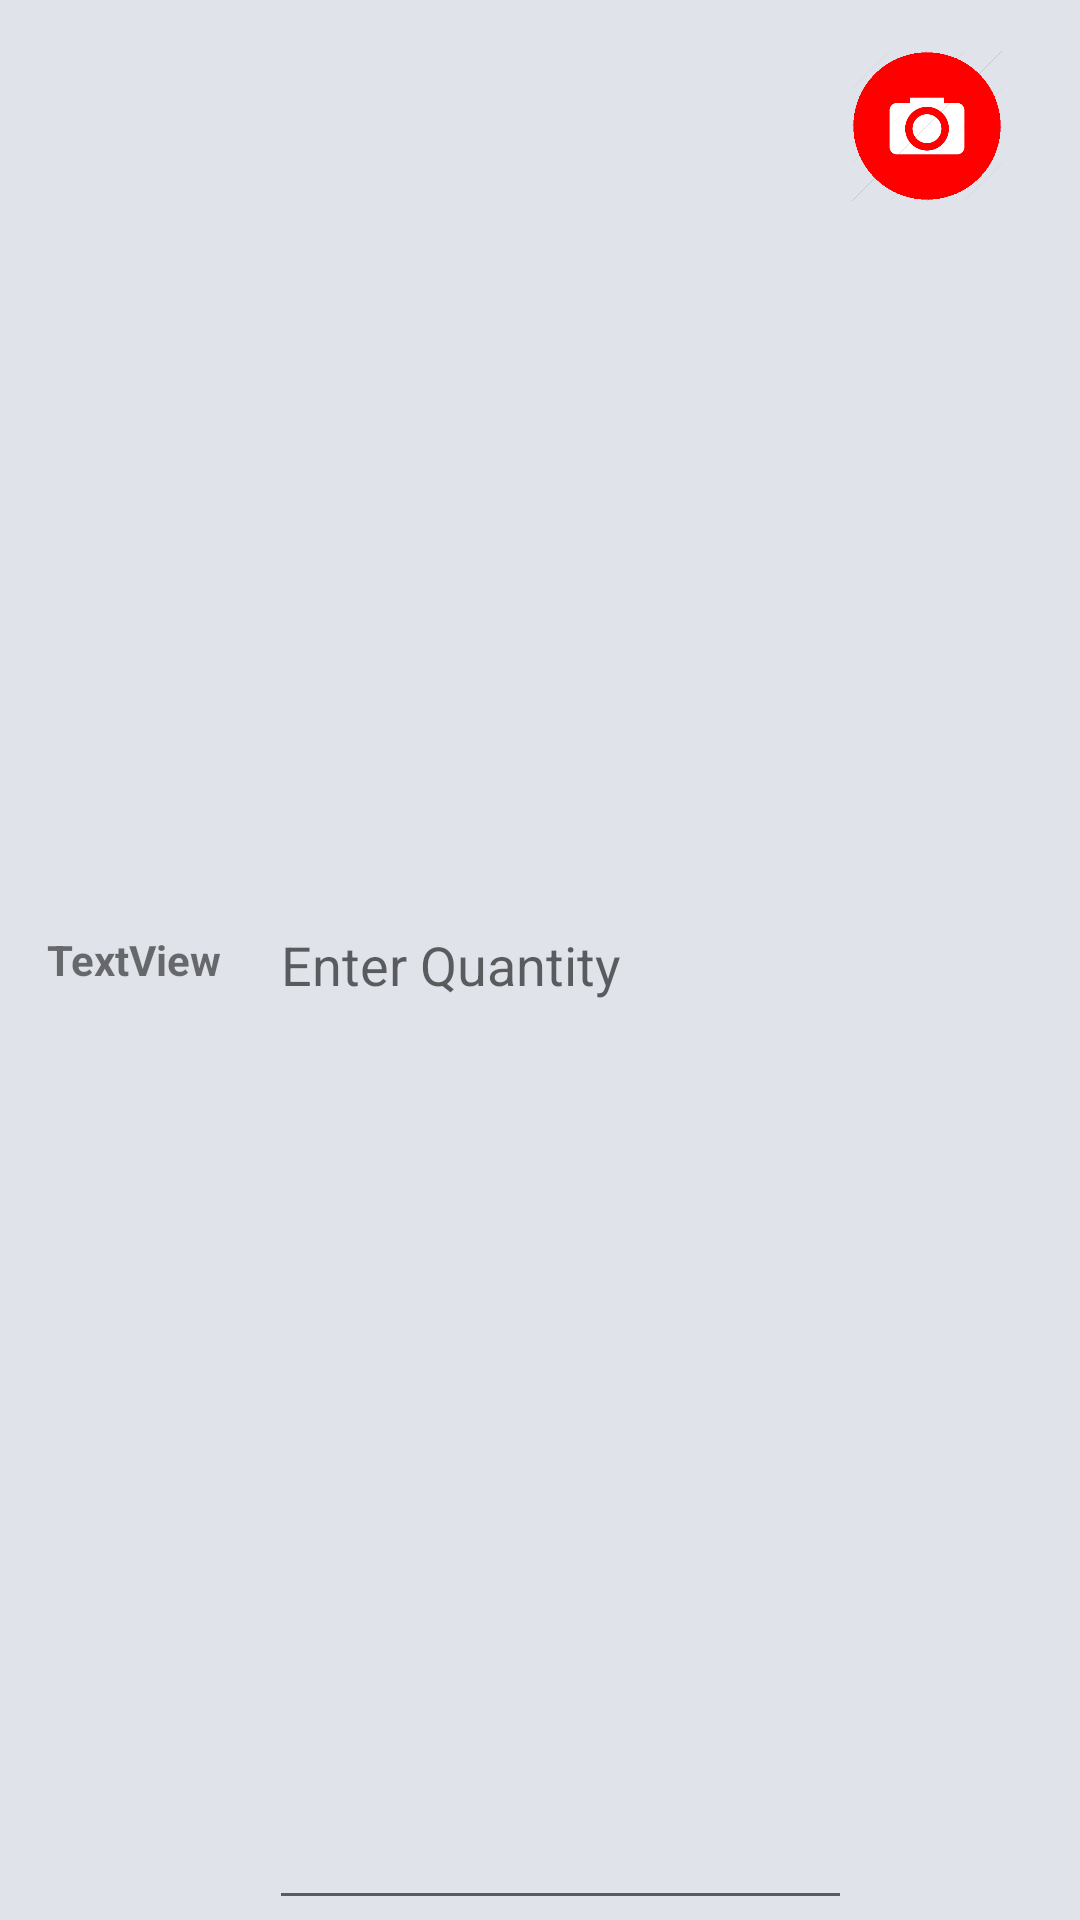

Screen size 1080px x 1920px. Icon name, then its center in pixels as (x=x, y=y):
camera: (x=927, y=126)
